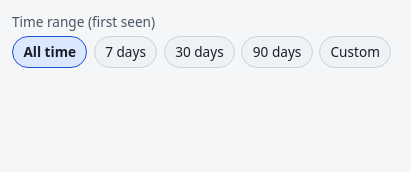
Test case: TimeFilter › offers the presets and a custom range
Check: the element "Time range (first seen)" is shown, box [12,12,391,68]
Check: the field labelled "From date" is not shown
Click the button "30 days" at (199, 52), box [164,36,235,68]
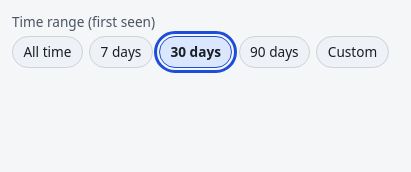
Check: the button "30 days" is pressed, box [159,36,232,68]
Click the button "Custom" at (352, 52), box [316,36,388,68]
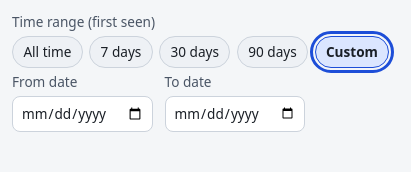
Check: the date field labelled "From date" is shown, box [12,96,153,132]
